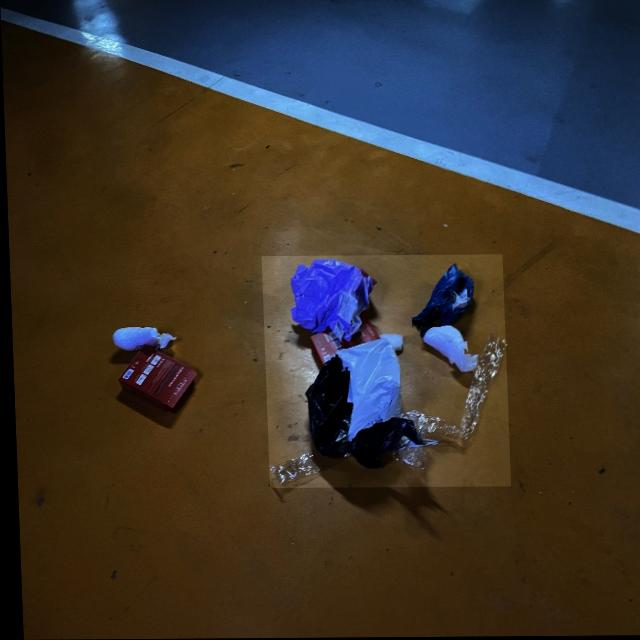garbage: (260, 255, 507, 489), (108, 325, 196, 412)
